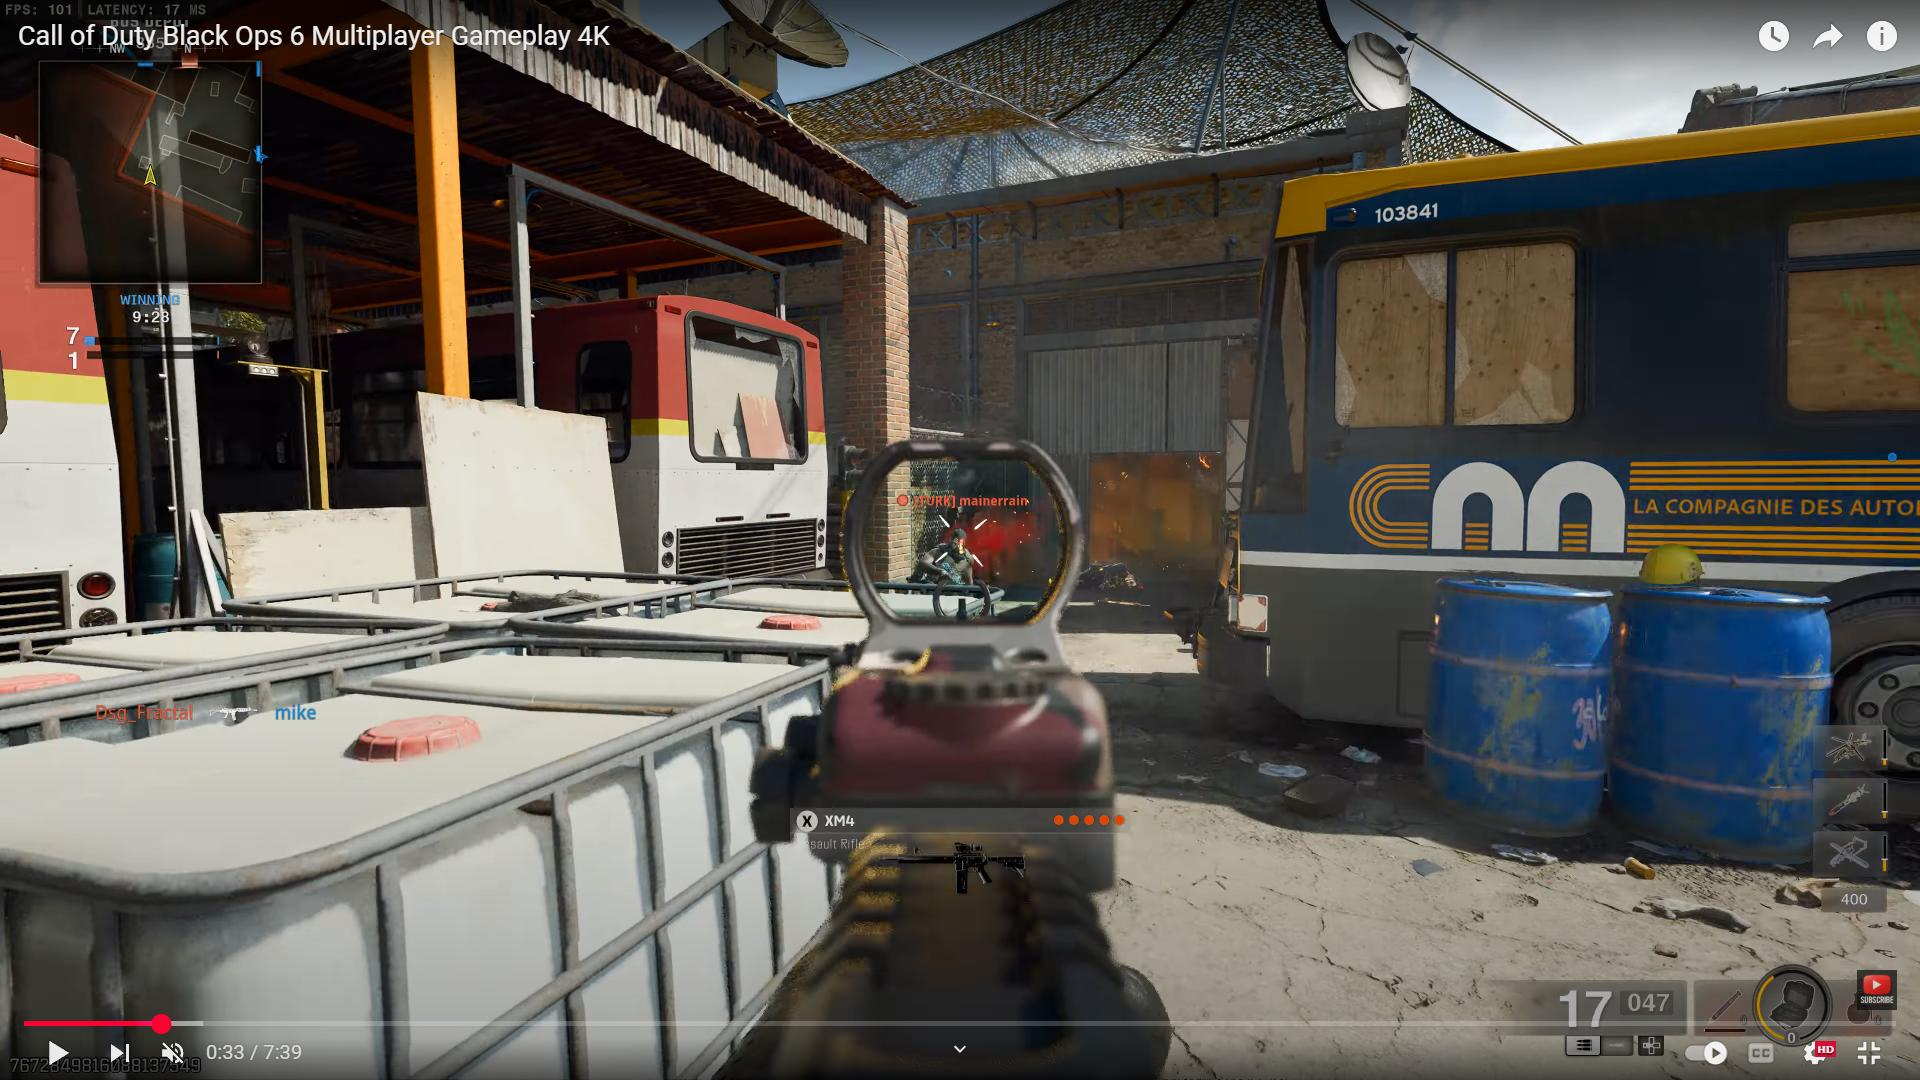Enemy: (911, 518, 989, 592)
